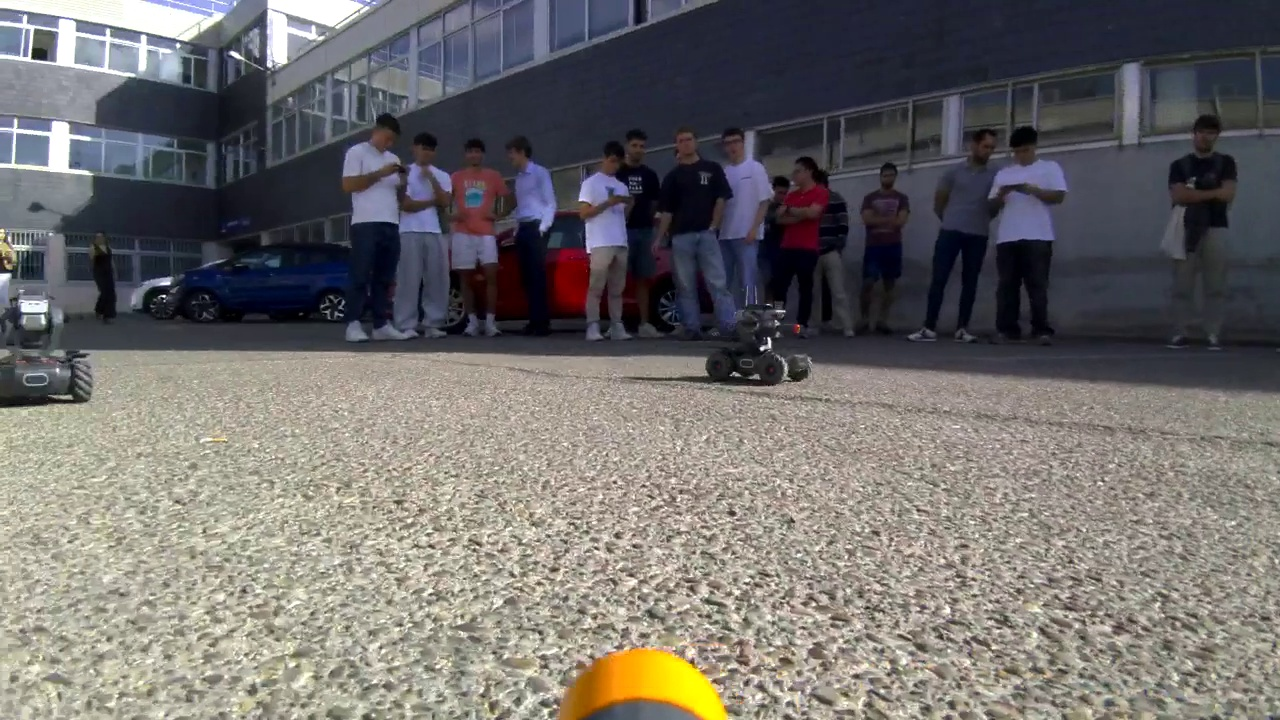robot: (2, 283, 104, 409), (703, 290, 813, 388)
